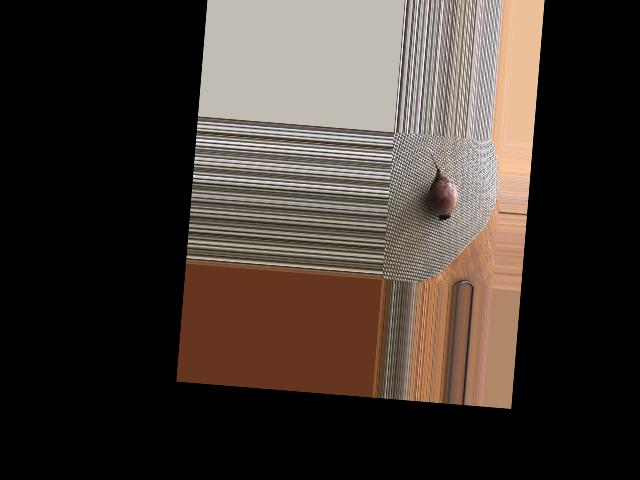beet: (419, 147, 461, 221)
